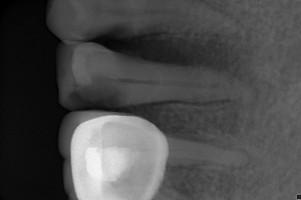Dental Caries: (116, 35, 254, 84)
